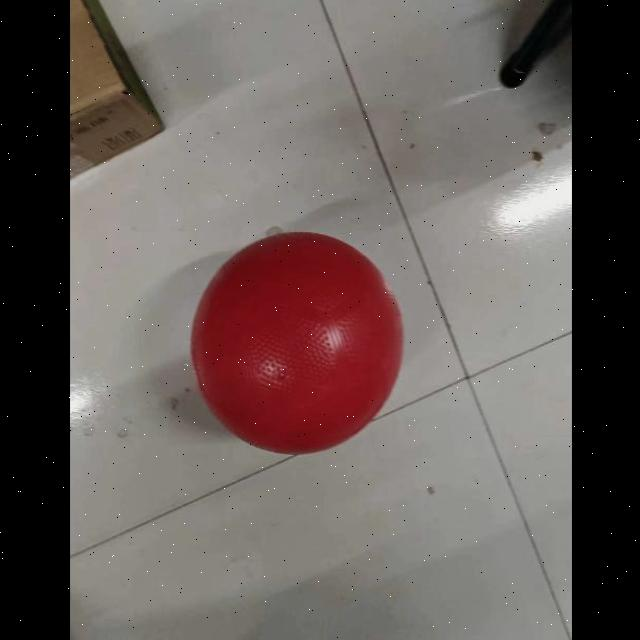R: (174, 218, 420, 462)
